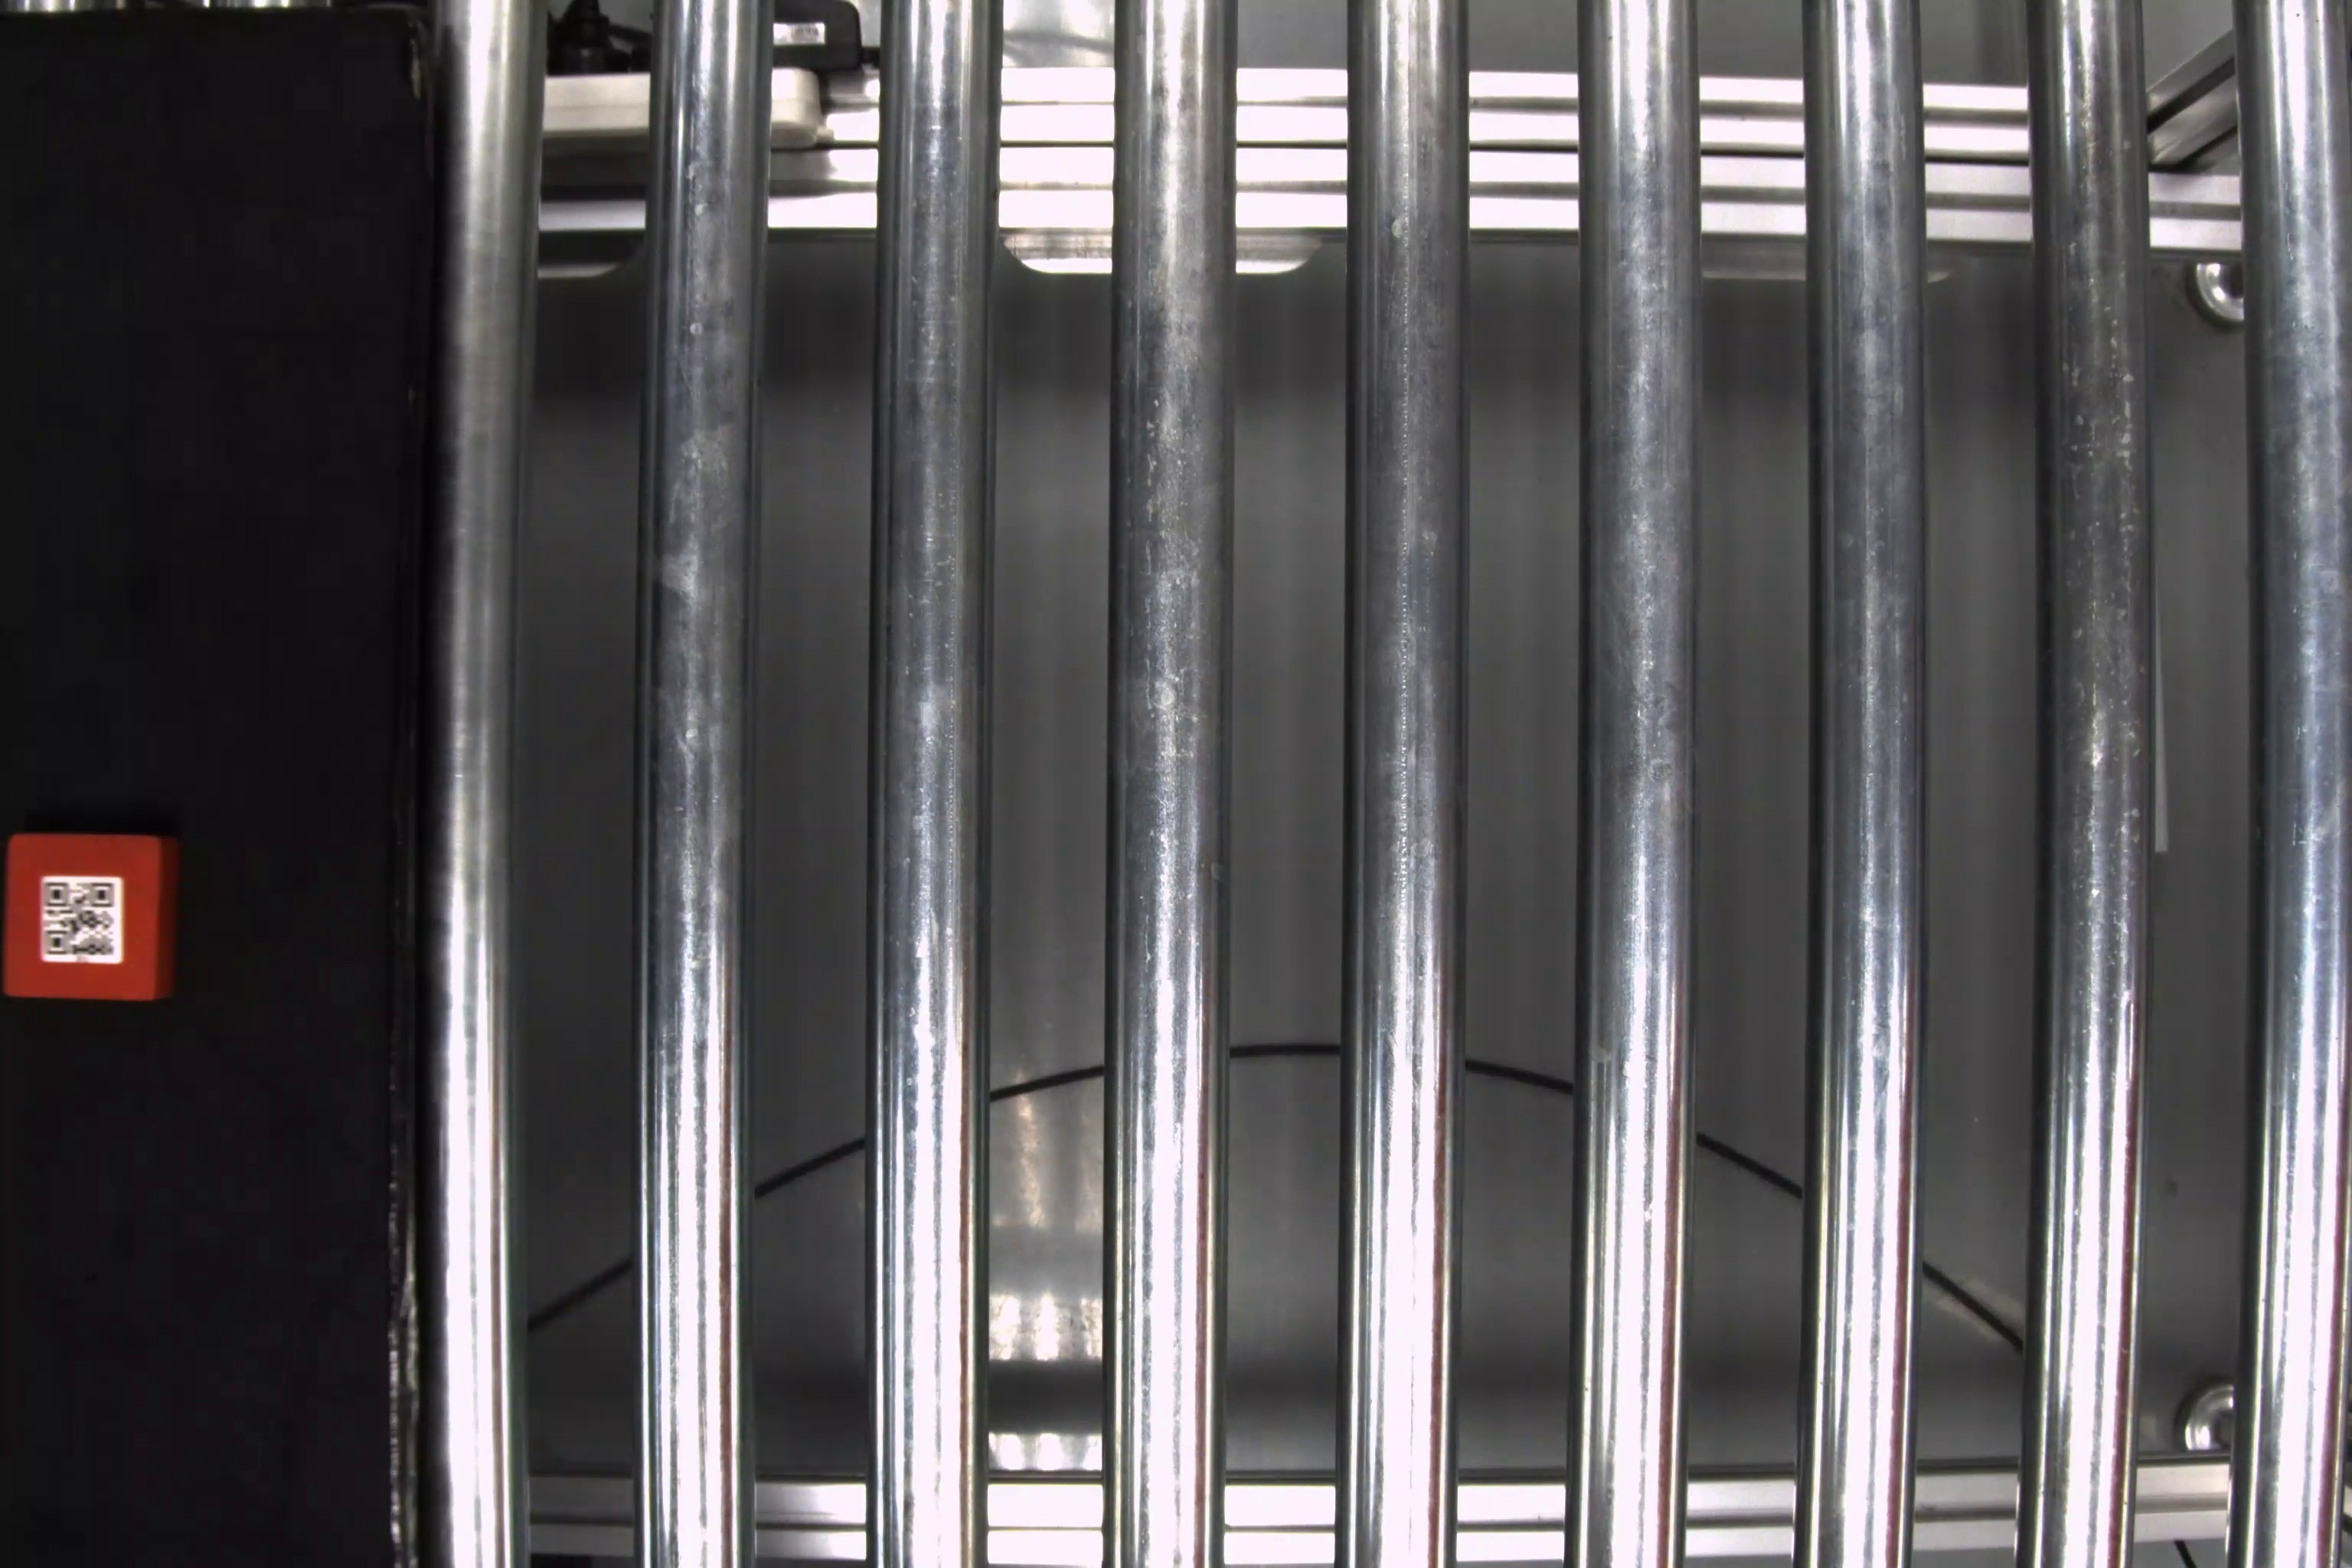wood: (7, 828, 187, 1006)
